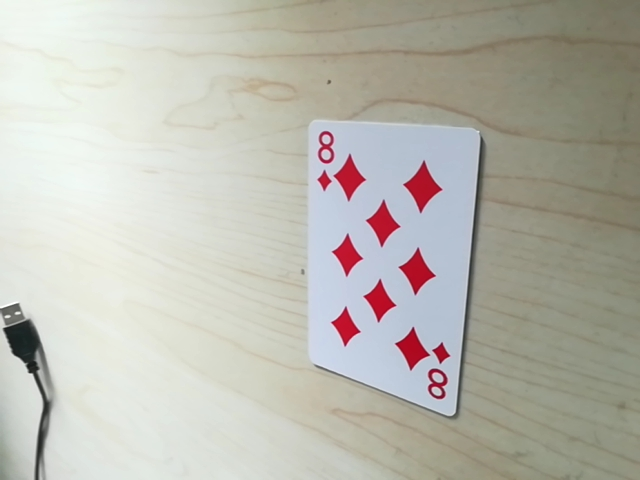fk 8: (308, 124, 345, 181), (419, 359, 456, 404)
